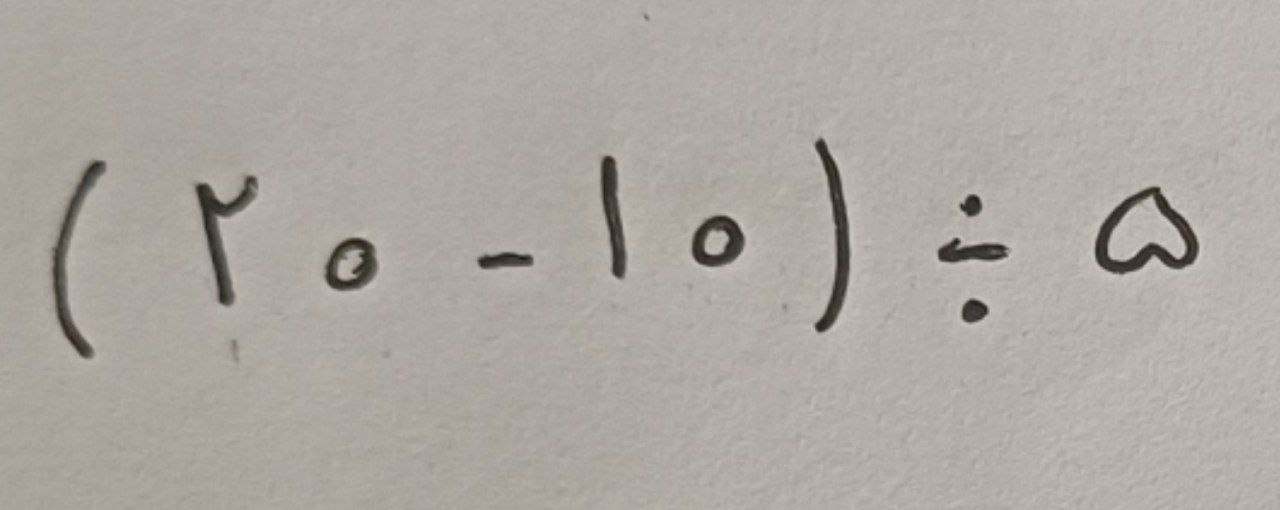character: (54, 160, 106, 359), (1094, 186, 1199, 274), (938, 196, 1010, 324), (197, 177, 259, 303), (812, 138, 848, 332), (601, 157, 629, 279), (326, 237, 379, 292), (691, 217, 745, 266), (479, 252, 534, 272)
